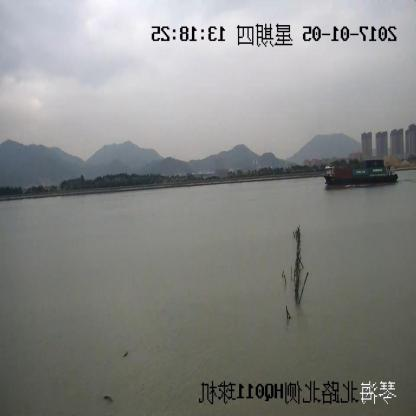Container Ship: (324, 158, 398, 188)
